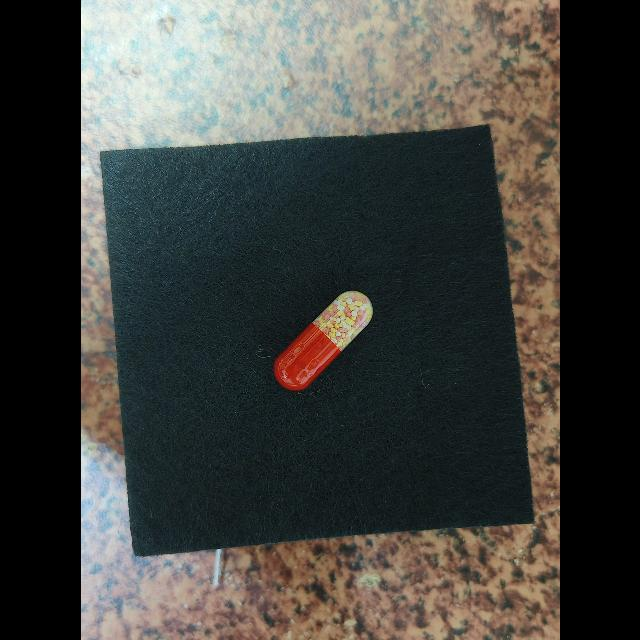Intact Capsule: (273, 291, 372, 391)
